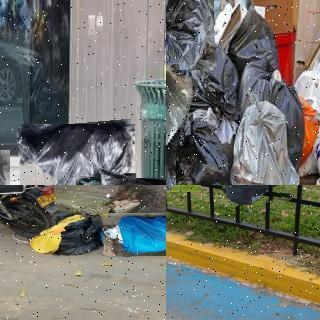Garbage: (18, 121, 136, 185), (229, 92, 304, 185), (169, 102, 239, 185), (211, 0, 284, 79), (166, 0, 215, 71), (103, 212, 166, 256), (292, 54, 320, 152), (50, 216, 106, 256), (219, 185, 290, 205), (311, 133, 320, 185)
